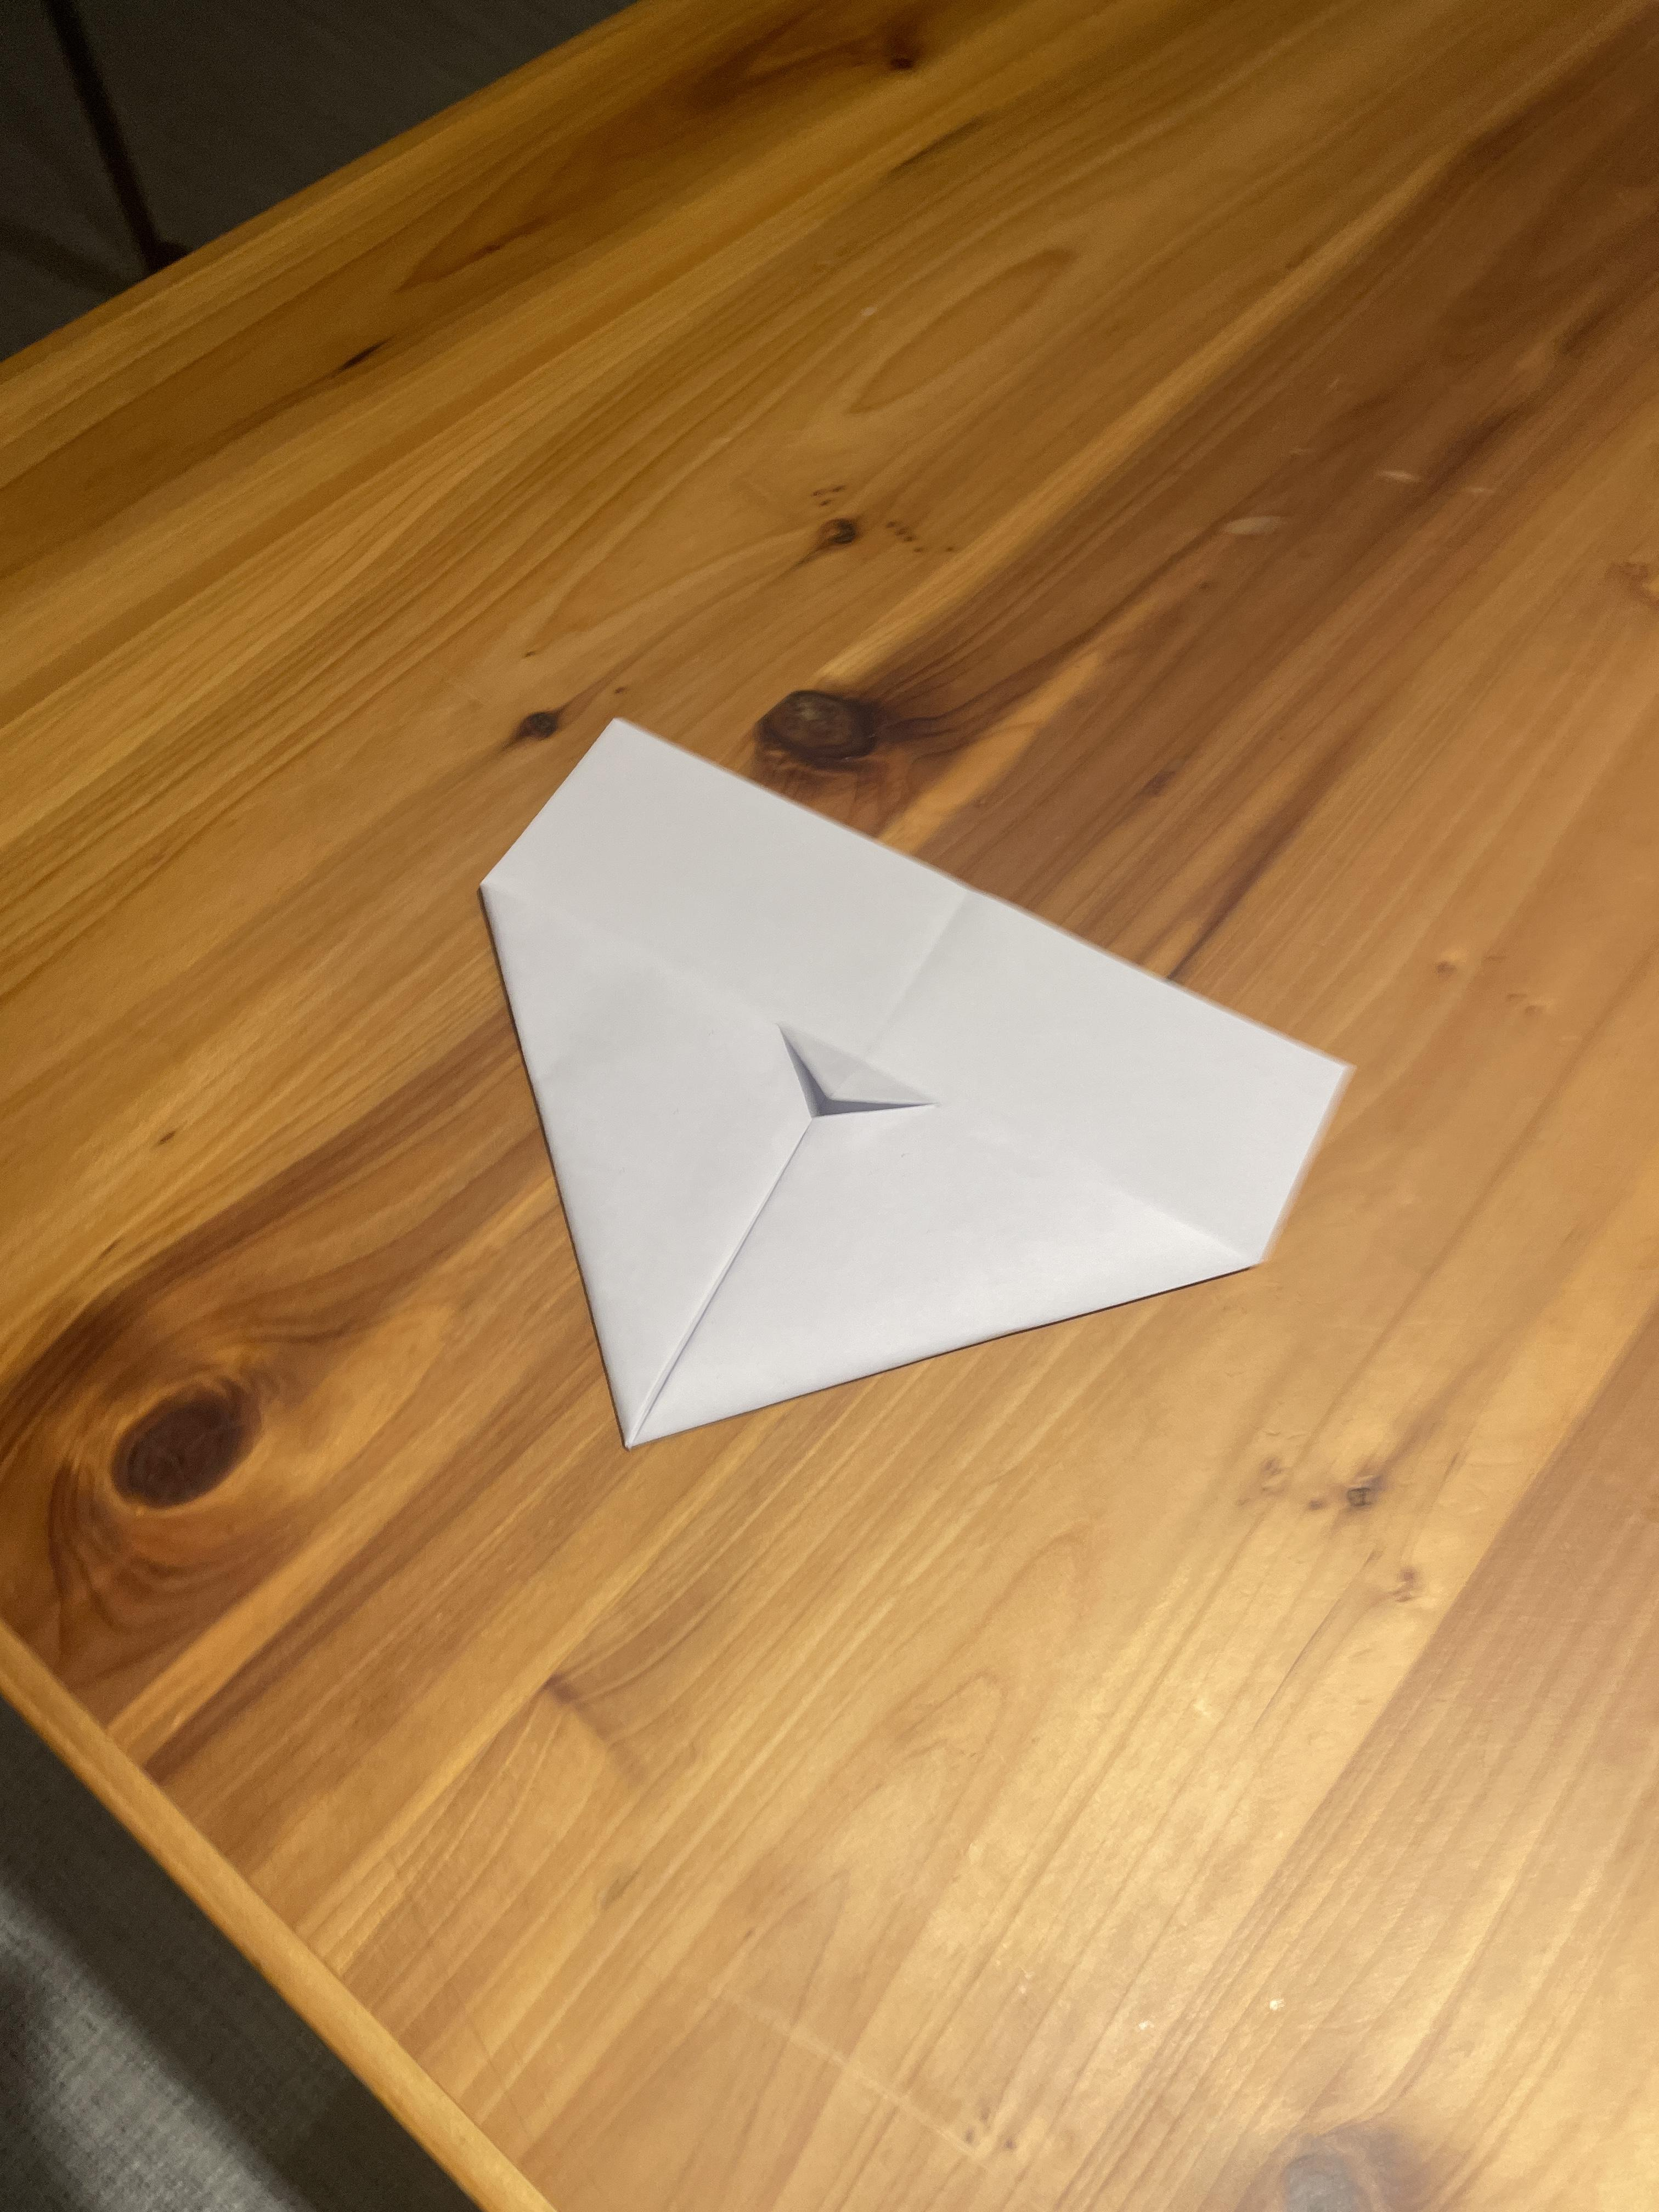shape_2: (368, 660, 1391, 1533)
